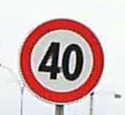limite 40: (19, 19, 104, 105)
